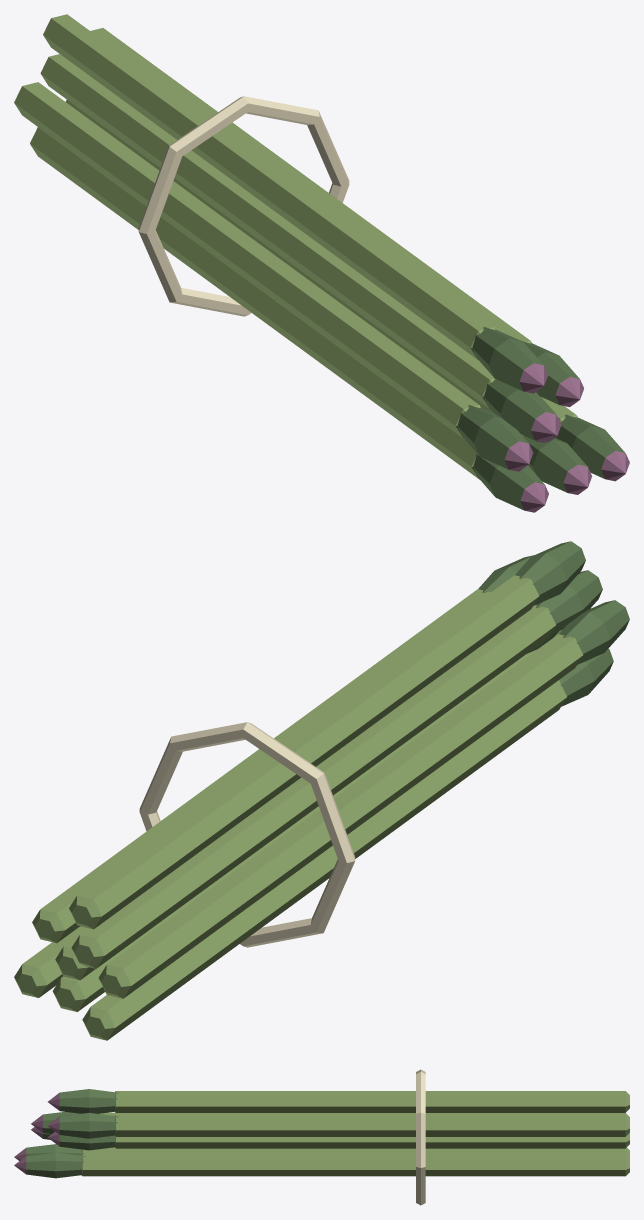
File: asparagus.glb
3 renders of one model, top to bottom at view 1: azimuth 30°, elevation 25°; view 2: azimuth 150°, elevation 25°; view 3: azimuth 270°, elevation 25°, orthographic. The views are drawn at different scales.
Visible parts, largest first — view 1: asparagus; view 2: asparagus; view 3: asparagus.
Boxes of the visible parts, box(x1,y1,x2,y2) form: asparagus: box(14, 14, 629, 512); asparagus: box(14, 541, 629, 1040); asparagus: box(14, 1069, 629, 1205).
Bounding box in the file's own units: 0.052 × 0.052 × 0.221.
